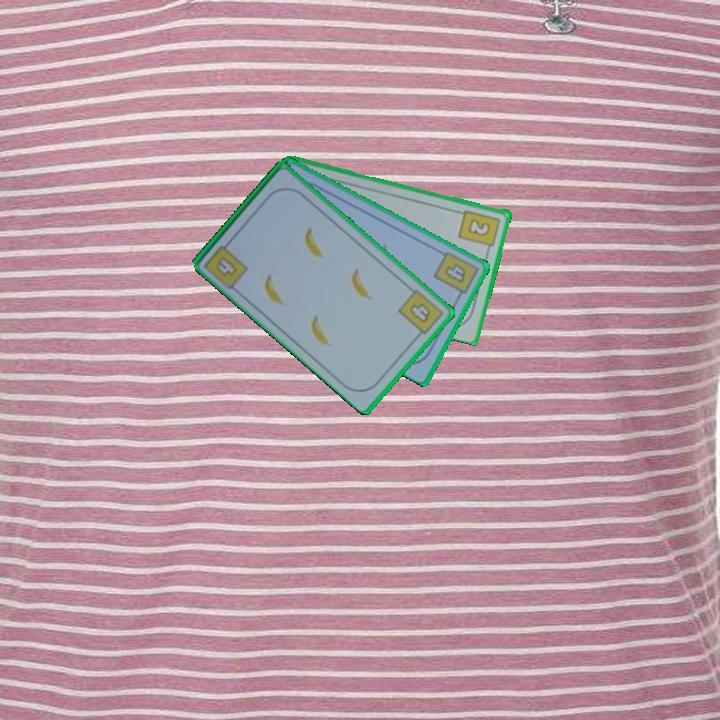2b: (455, 206, 503, 255)
4b: (394, 286, 447, 341), (430, 248, 481, 302), (215, 255, 238, 277)
